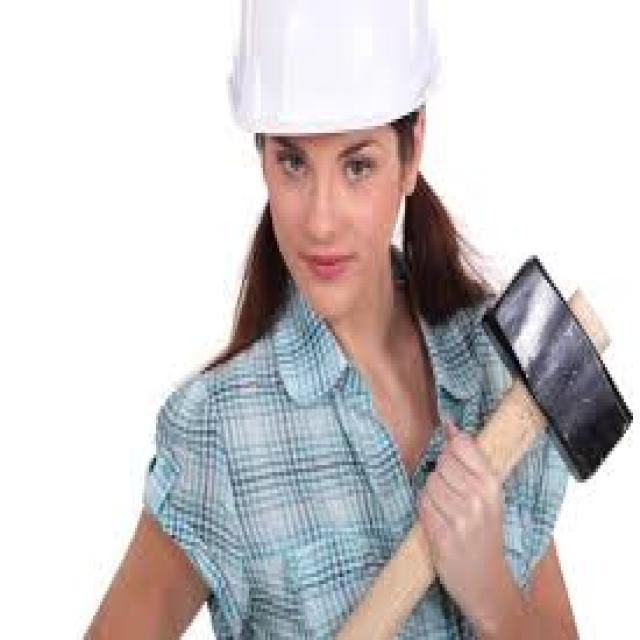hammer: (319, 245, 640, 640)
